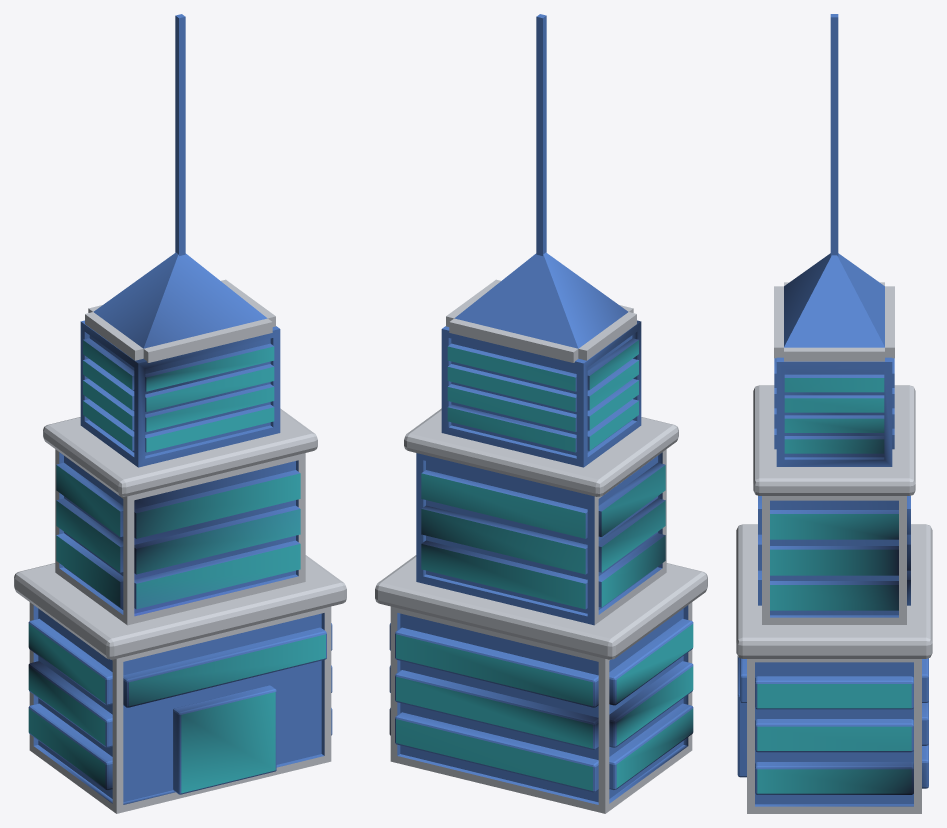
Rendered from Predio_com_vertex.fbx.
The picture shows the model from 3 angles, left to right: view 1: azimuth 30°, elevation 25°; view 2: azimuth 150°, elevation 25°; view 3: azimuth 270°, elevation 25°; orthographic projection.
Parts seen in each view (by area): view 1: Predio_pontudo; view 2: Predio_pontudo; view 3: Predio_pontudo.
Part boxes in pixels (x1,y1,x2,y2): Predio_pontudo: (14,14,346,813); Predio_pontudo: (375,14,707,813); Predio_pontudo: (736,14,932,813).
Bounding box in the file's own units: 319 × 938 × 224.
